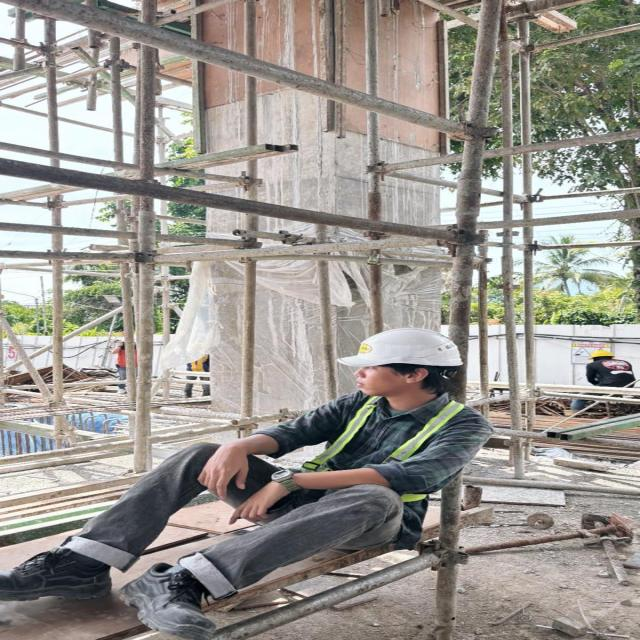safetyhelmet: (326, 325, 474, 407)
